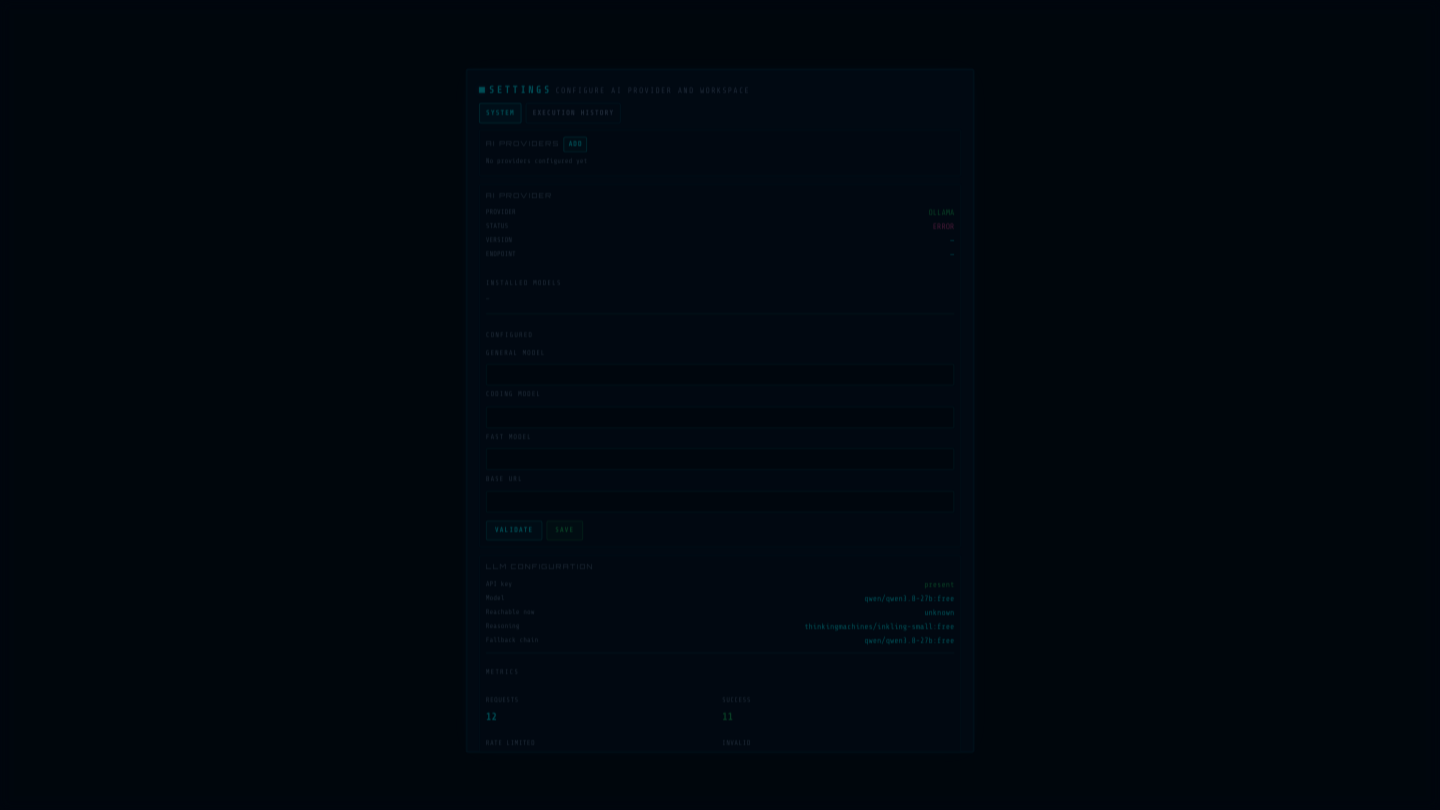
Scenario: SettingsPanel › switches to the execution-history section and back
Click the tab "EXECUTION HISTORY": x=573, y=112 x1=526 y1=102 x2=621 y2=122
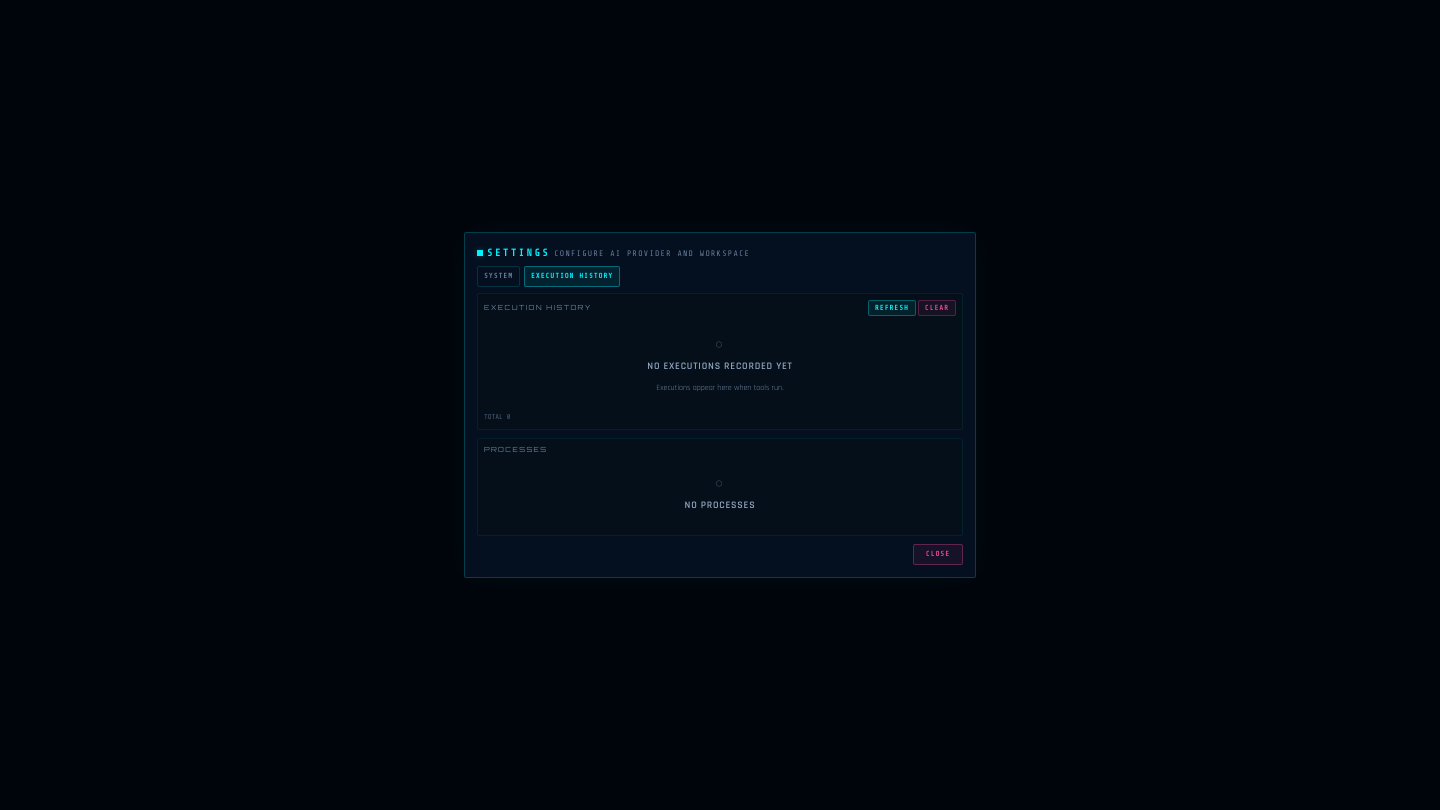
Result: the heading "No executions recorded yet" is shown at x1=647 y1=359 x2=793 y2=374
Click the tab "SYSTEM": x=498, y=277 x1=477 y1=266 x2=520 y2=287
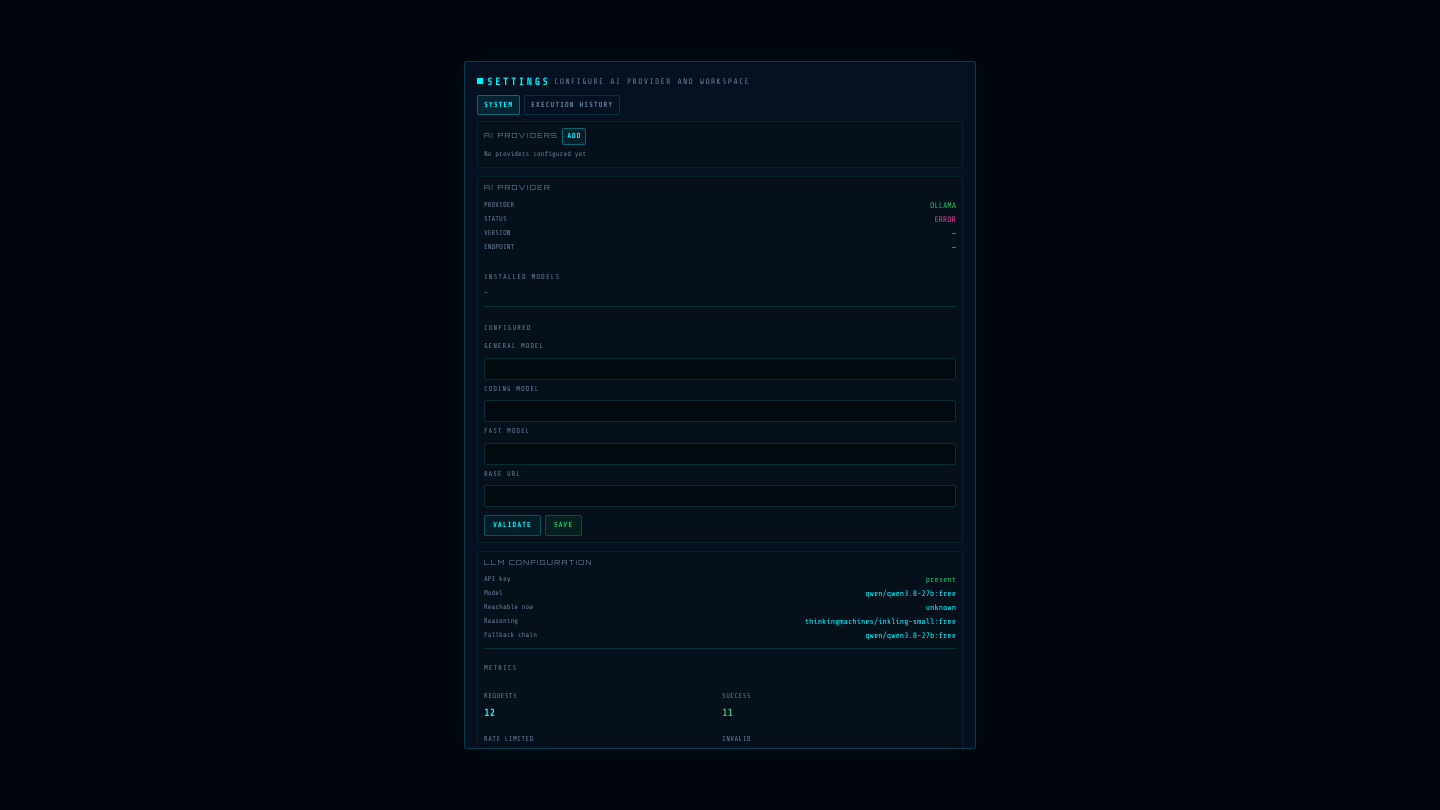
Result: the text "AI PROVIDER" is shown at x1=484 y1=183 x2=551 y2=192
Result: the heading "No executions recorded yet" is gone
